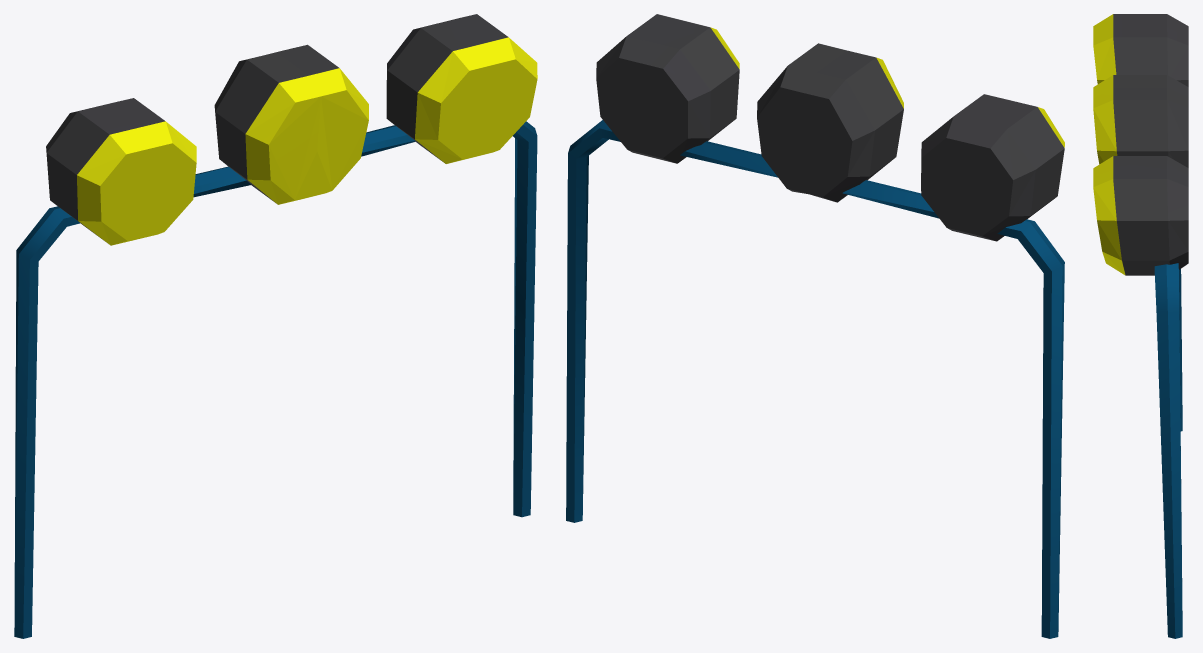
File: JeepSpoiler00C02.gltf
The picture shows the model from 3 angles, left to right: view 1: azimuth 30°, elevation 25°; view 2: azimuth 150°, elevation 25°; view 3: azimuth 270°, elevation 25°; orthographic projection. The views are drawn at different scales.
Parts seen in each view (by area): view 1: JeepSpoiler00C02; view 2: JeepSpoiler00C02; view 3: JeepSpoiler00C02.
Boxes of the visible parts, x1,y1,x2,y2 form: JeepSpoiler00C02: (14,14,537,638); JeepSpoiler00C02: (566,14,1064,638); JeepSpoiler00C02: (1093,14,1188,638).
Bounding box in the file's own units: 0.0886 × 0.0861 × 0.0168.
